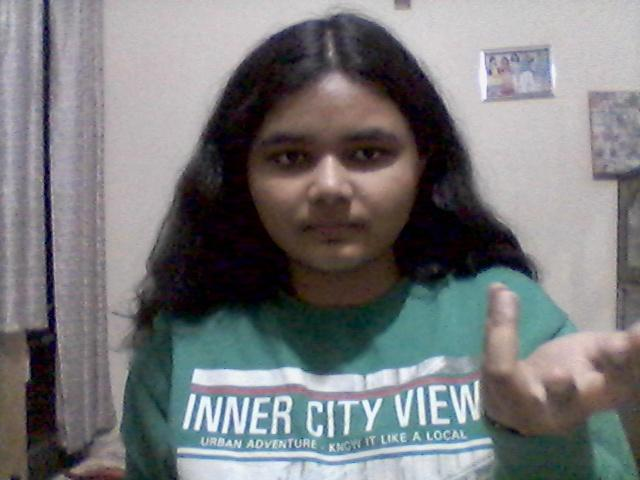what: (460, 283, 640, 441)
